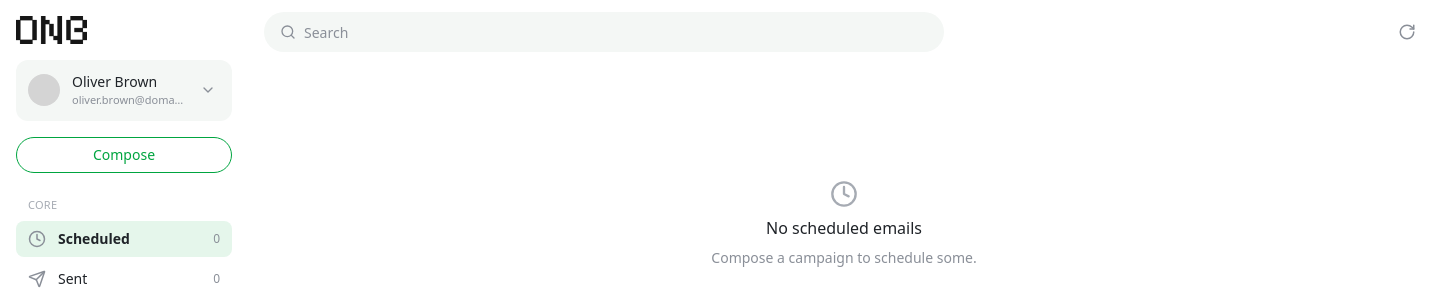
Scenario: Slack in the user menu › not configured on the server: the item is disabled with a clear label
Step 1. Click the button named "Account menu" → {"x": 208, "y": 90}, box top-left (196, 78), bottom-right (220, 102)
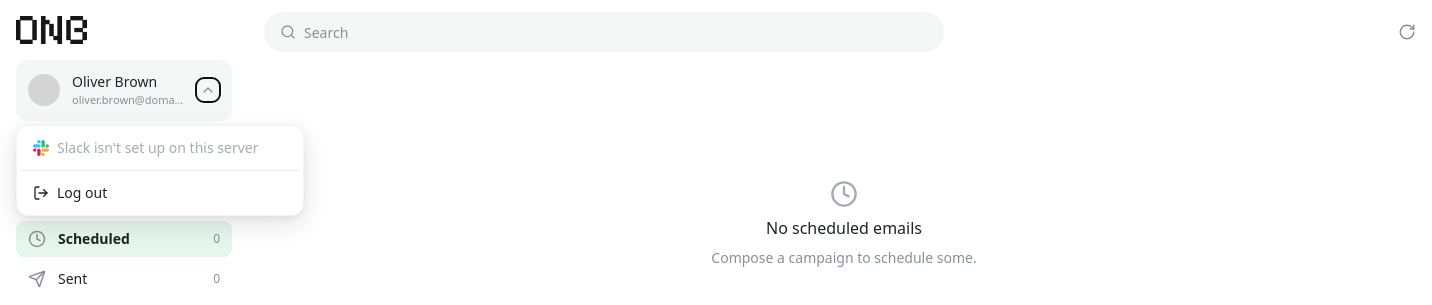
Expected: the menu item "Slack isn't set up on this server" is disabled, top-left (21, 130), bottom-right (299, 166)
